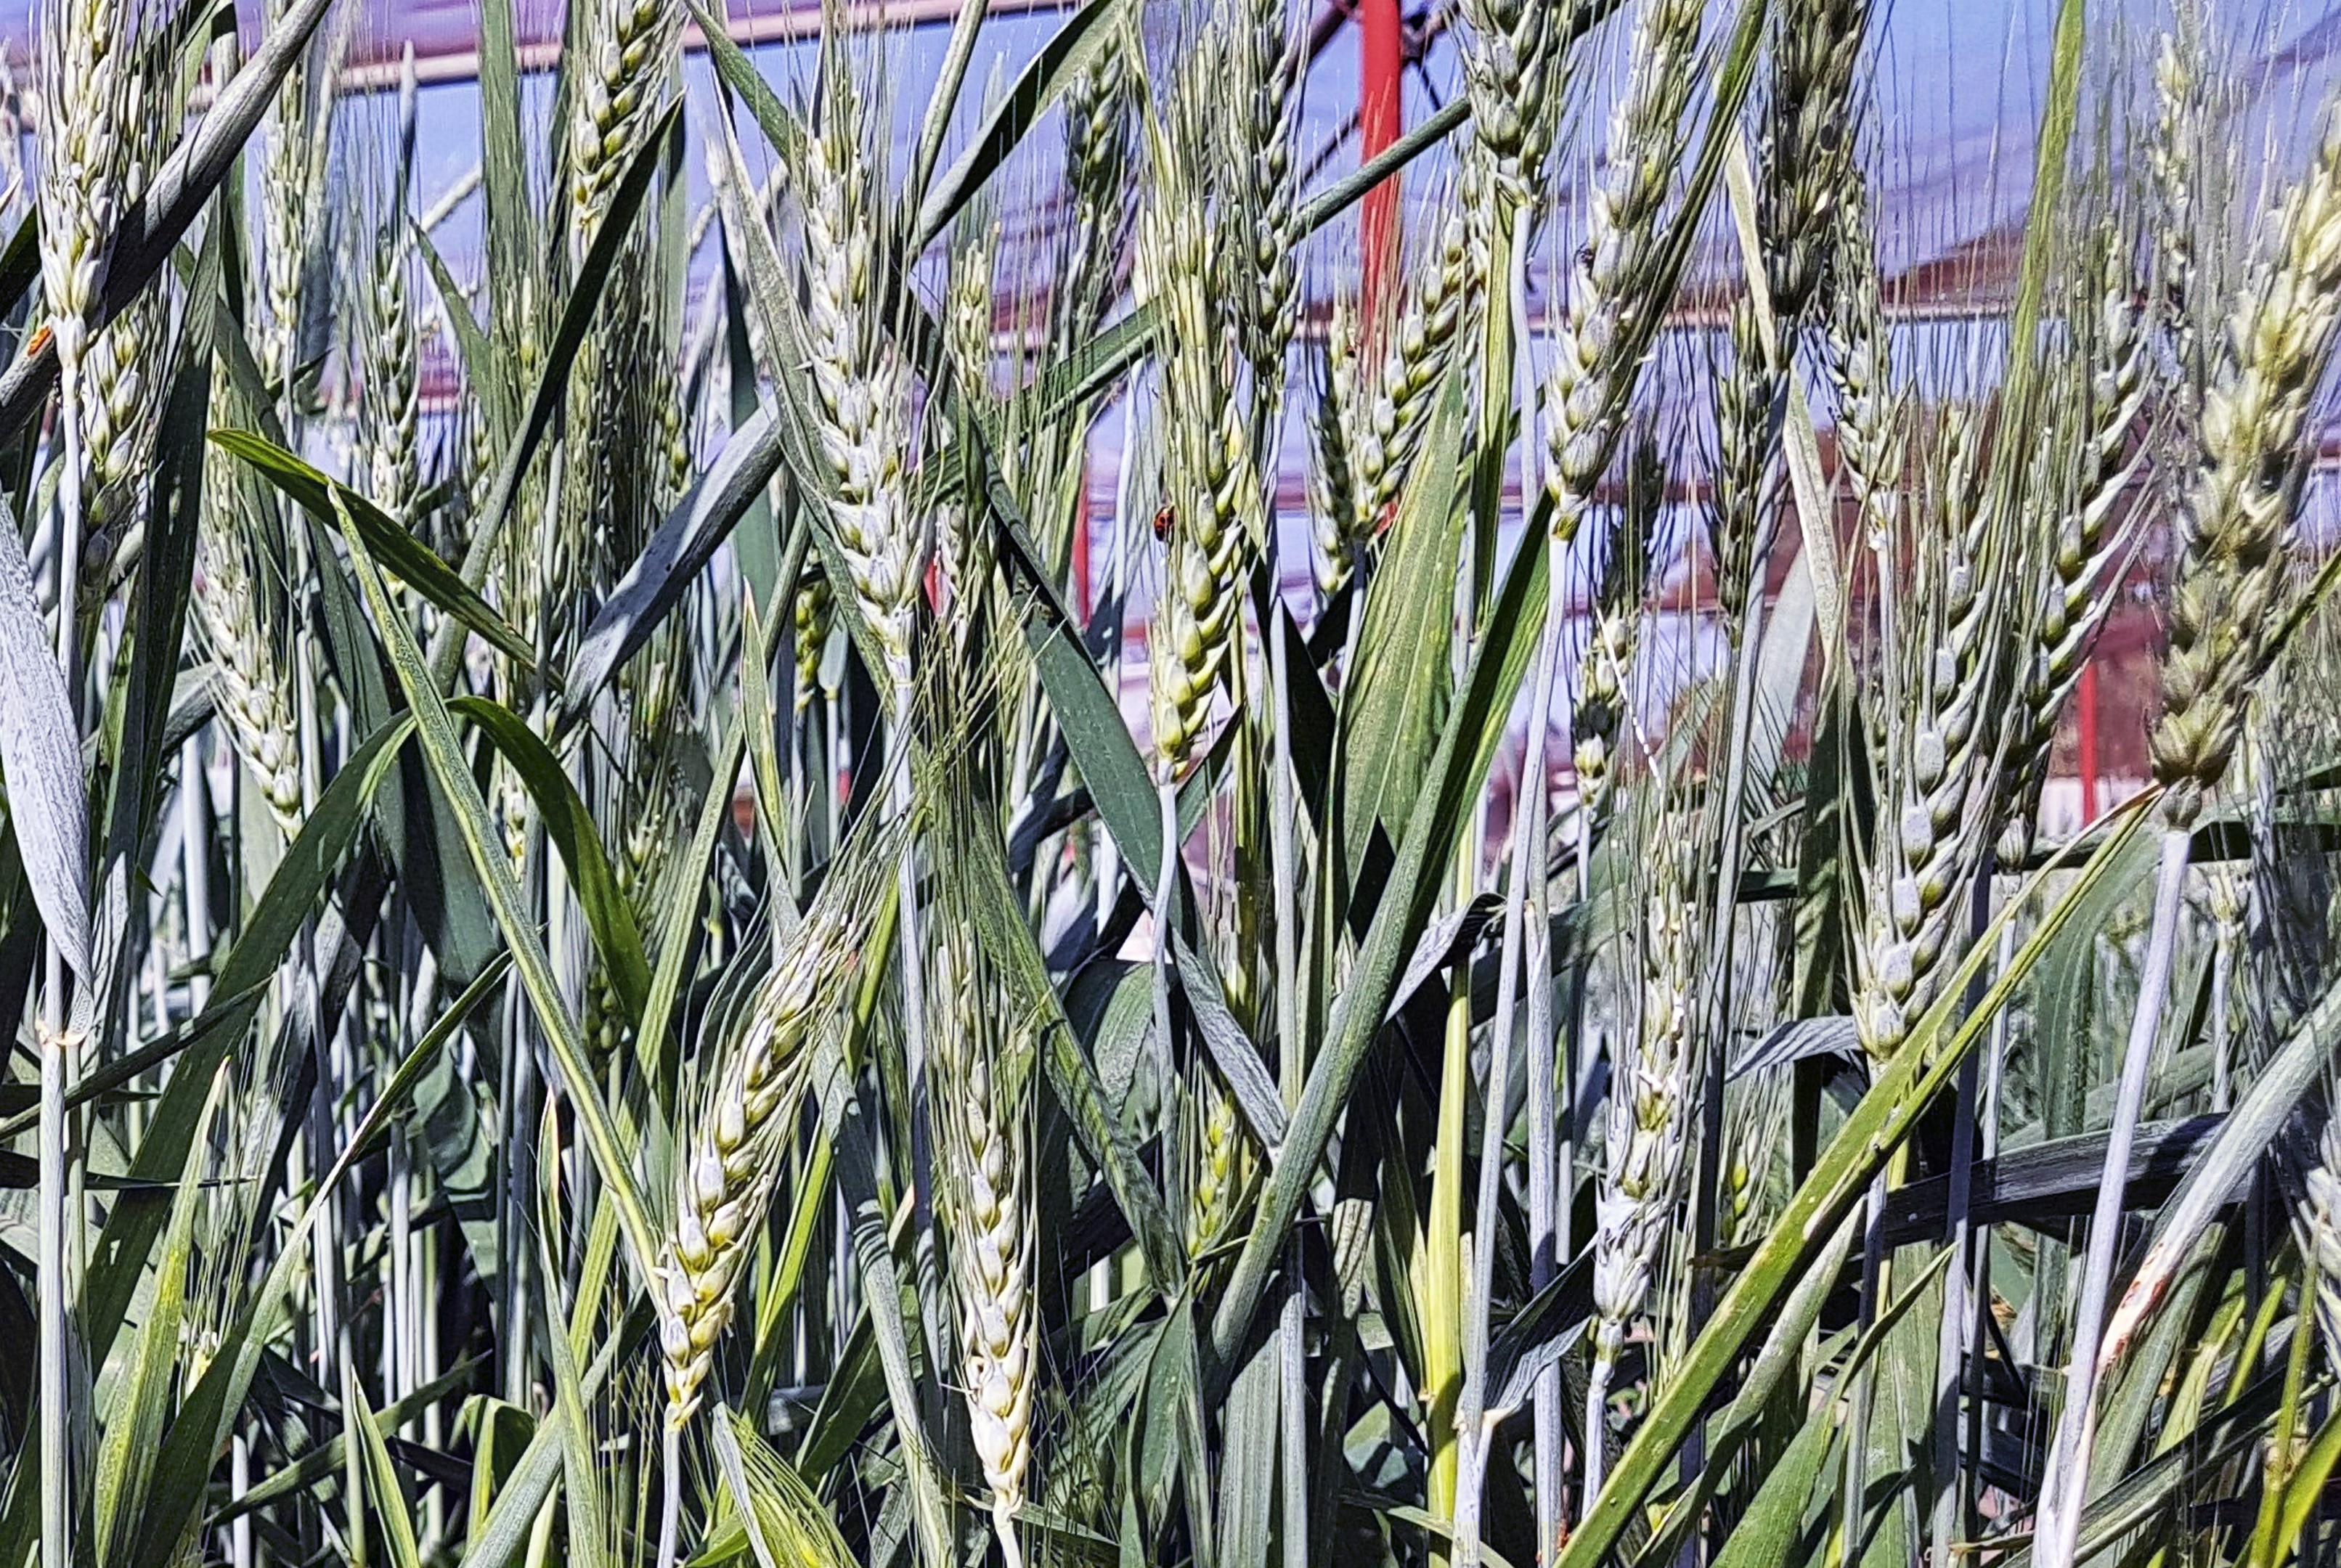Healthy Wheat: (653, 885, 903, 1405), (1844, 541, 2052, 1062), (751, 187, 973, 639), (933, 976, 1076, 1466)
